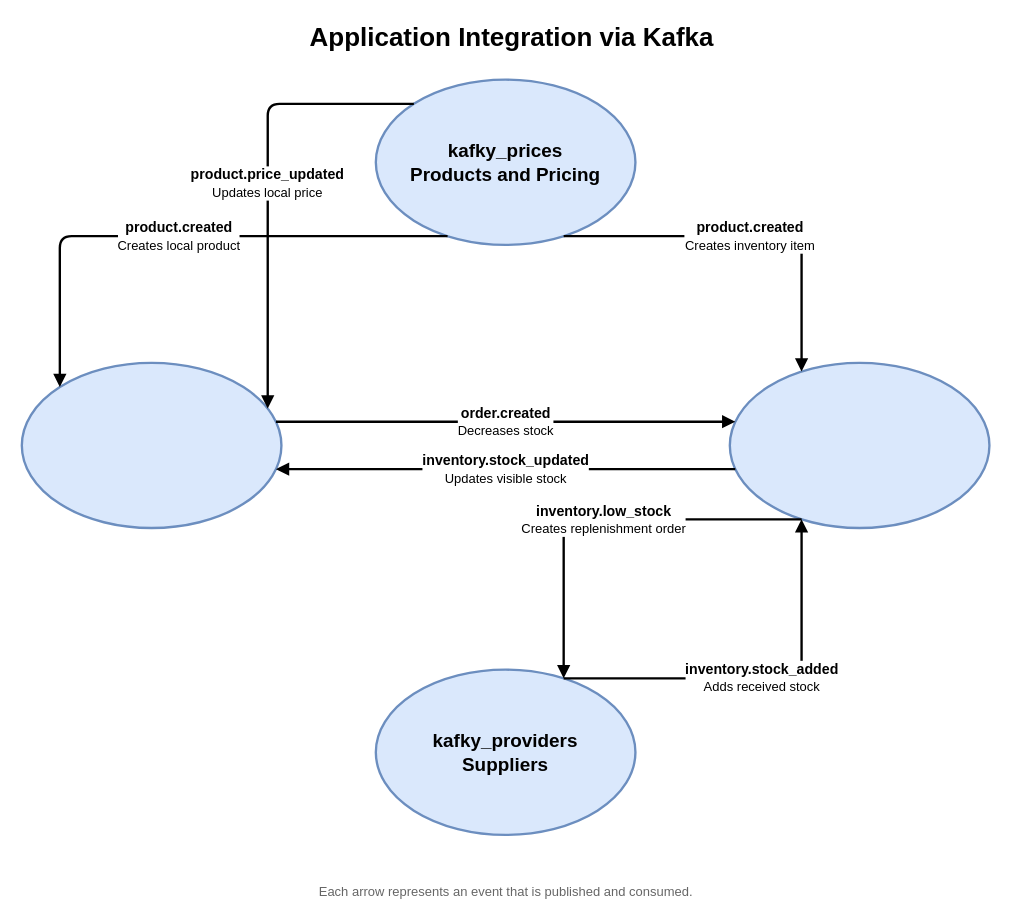
The diagram is 1010 pixels wide and 919 high, and some of its shapes have lost their labels. Here are the shapes that lost their labels. From the top down, the box of each, then its label:
(20, 361, 282, 529): kafky Sales
(728, 361, 990, 529): kafky_storage Inventory
